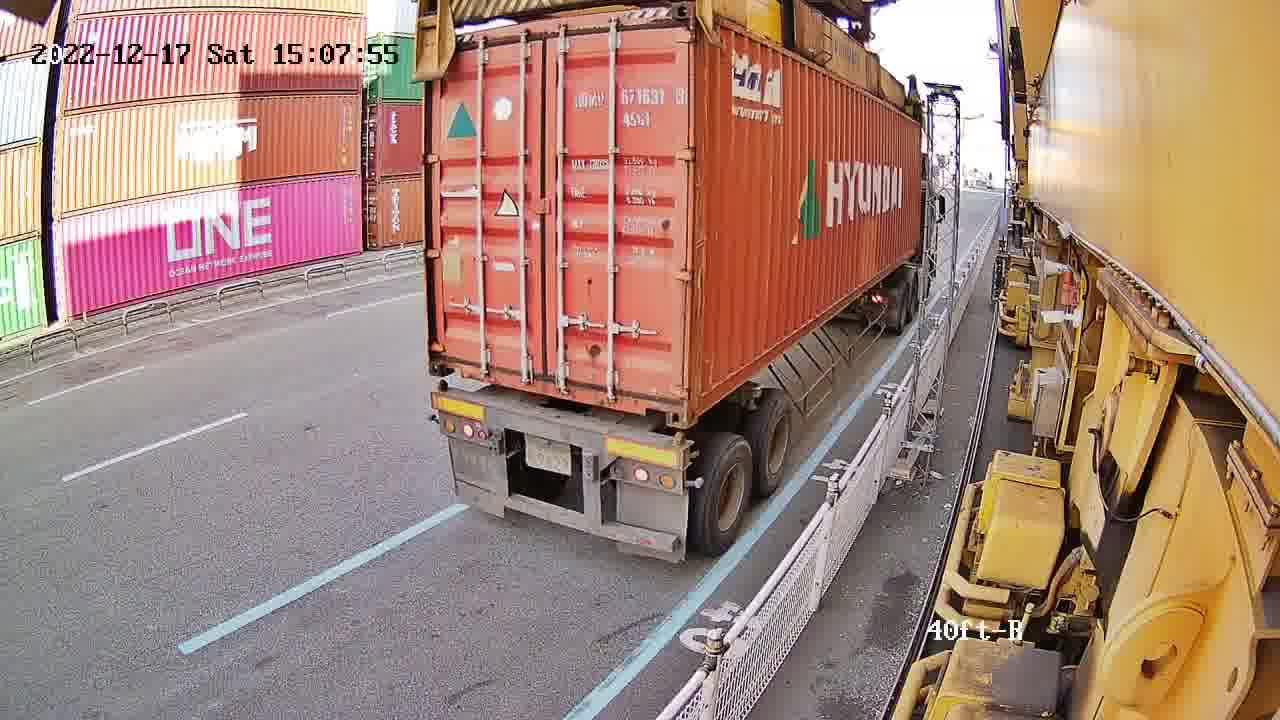Chassis: (429, 393, 688, 472)
Cone: (670, 432, 694, 467), (428, 380, 447, 401)
Hole_L: (687, 359, 717, 428), (427, 341, 470, 378)
Hole_R: (637, 372, 686, 427)
Tire: (703, 440, 753, 549), (754, 394, 799, 493)
